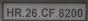character: (6, 6, 14, 17), (14, 6, 22, 17), (41, 7, 48, 17), (25, 6, 31, 17), (49, 7, 55, 17), (31, 8, 37, 17), (58, 8, 64, 17), (77, 7, 83, 16), (71, 7, 76, 17), (65, 8, 70, 17)
